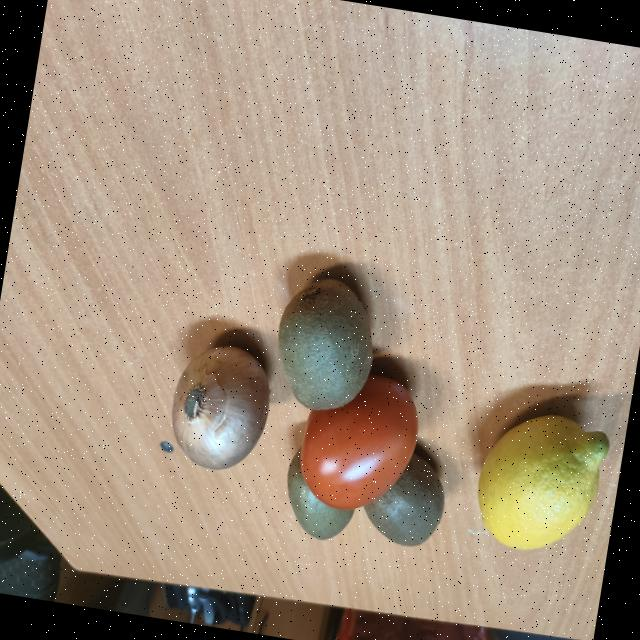kiwi: (277, 278, 372, 409), (364, 453, 444, 545), (286, 448, 353, 540)
lemon: (477, 414, 609, 549)
tomato: (299, 374, 417, 509), (171, 345, 269, 469)
